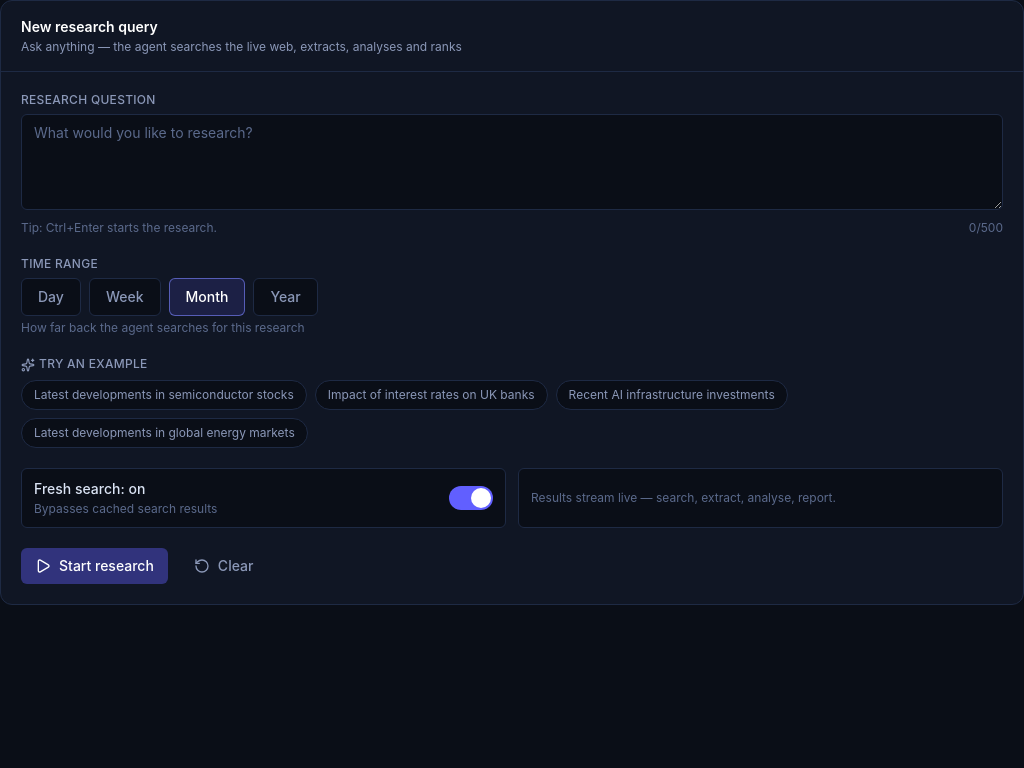
Test: QueryResearchForm › shows a validation message for an empty query
Click the text box with placeholder "What would you like to research?" at (512, 162), box [21,114,1003,210]
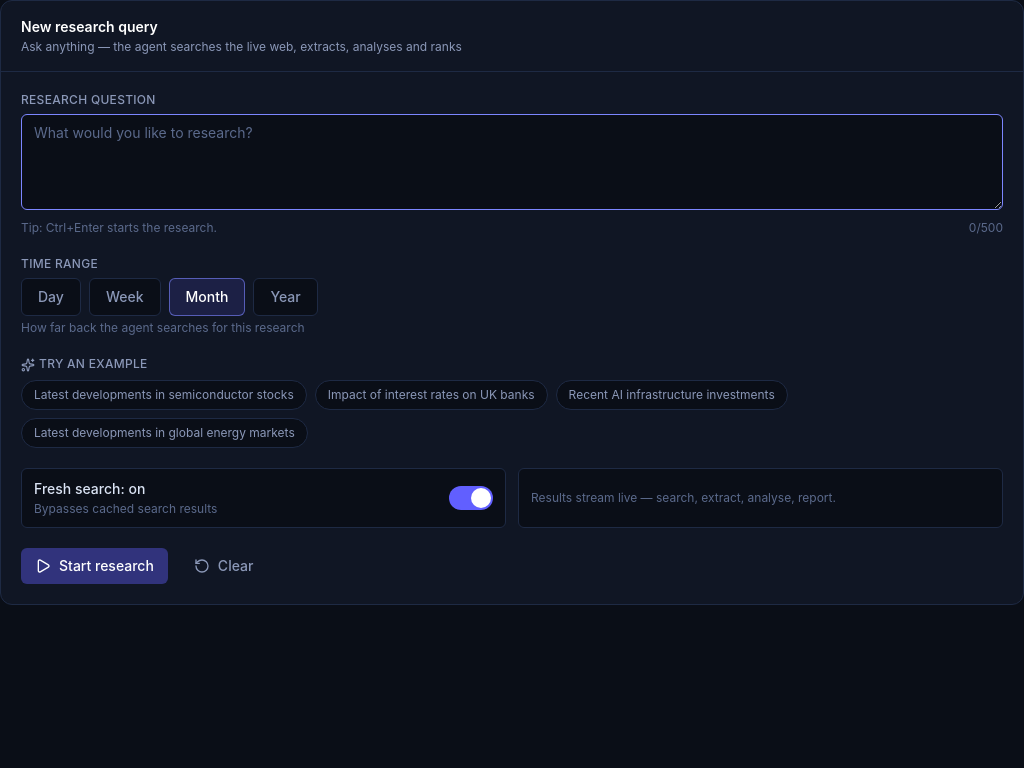
Type keys "{Control>}{Enter}{/Control}"
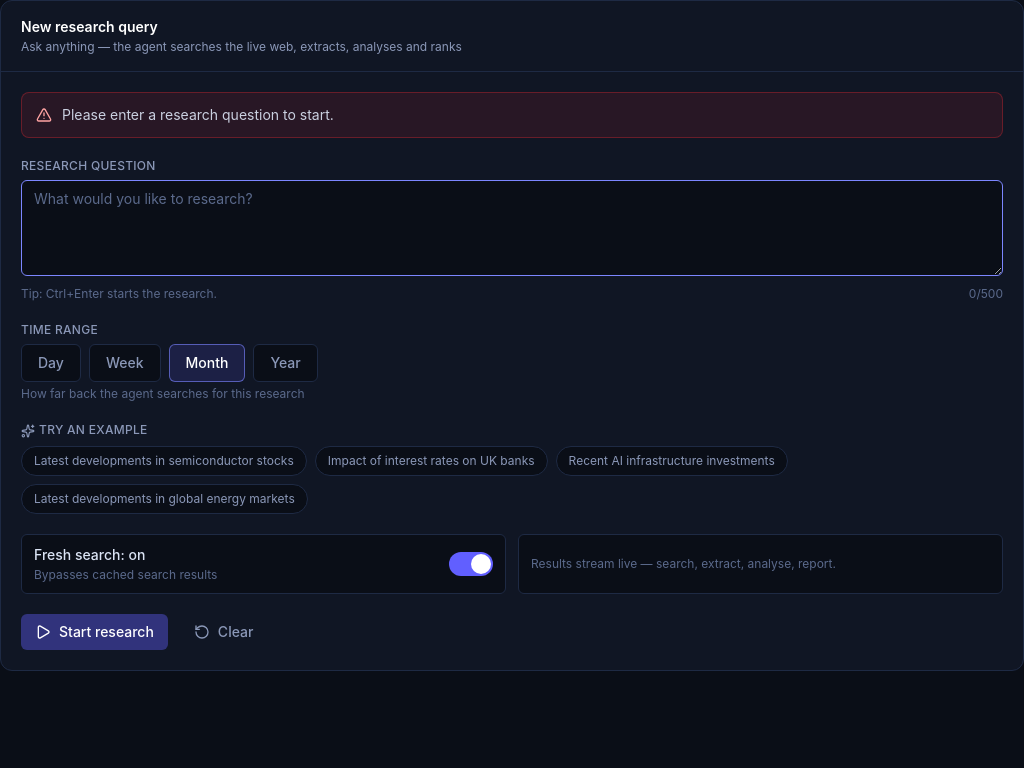
Expected: the text "Please enter a research question to start." is shown, [62,105,334,125]
